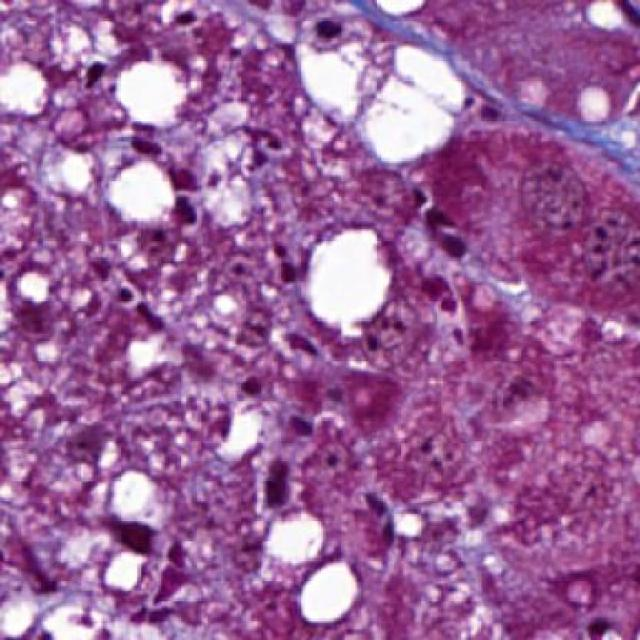ballooning: (291, 13, 474, 175)
